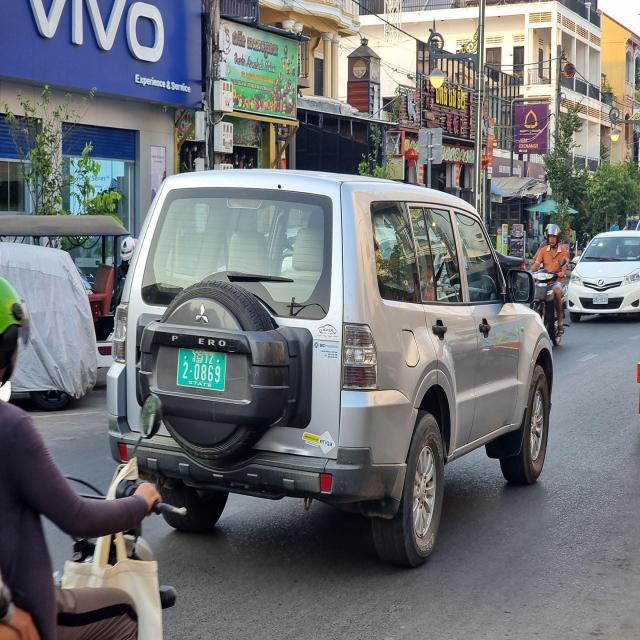State: (192, 350, 203, 363)
